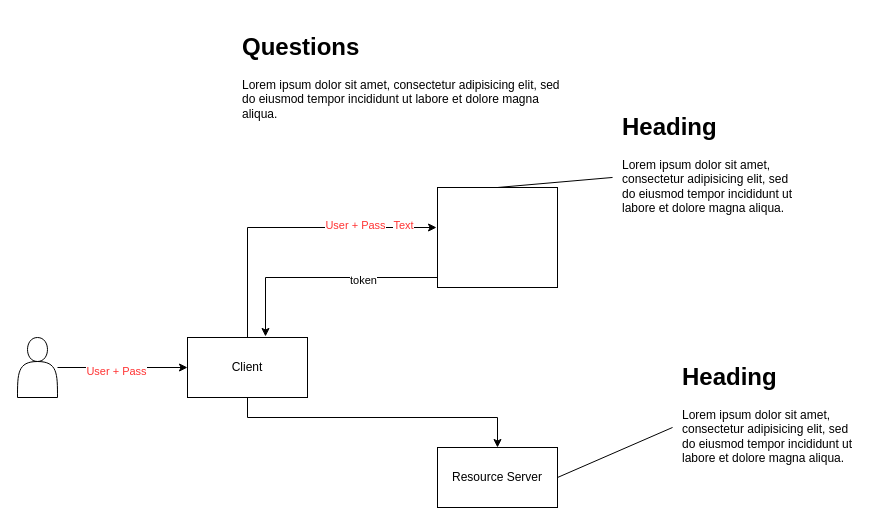
Image size: 885x525. Some labels were removed from this diagram. Here are the shapes that lost their labels. From the top down, the centre of each, then its label:
At point 497,237: "Authorization Server".
At point 37,367: "user".
